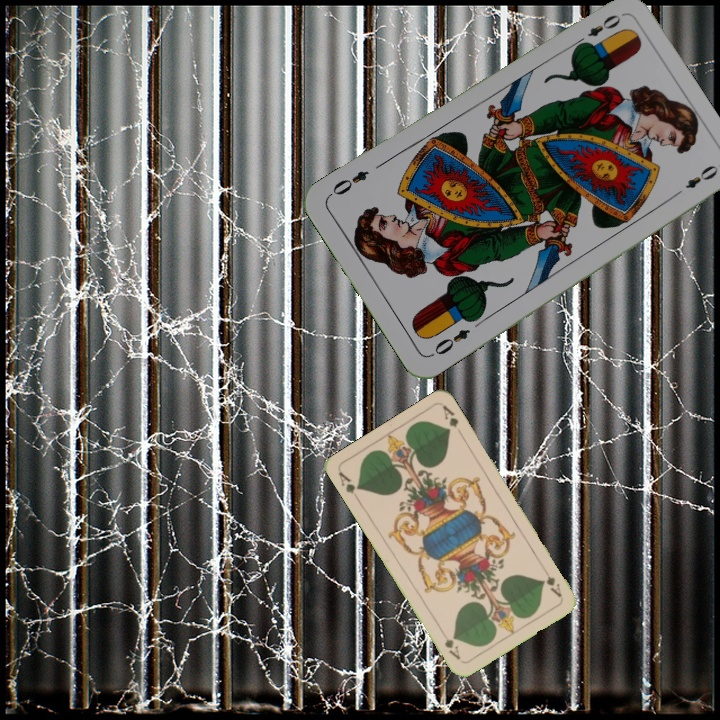EO: (571, 10, 624, 49), (426, 325, 473, 360)
GA: (335, 467, 363, 504), (540, 563, 564, 600)
